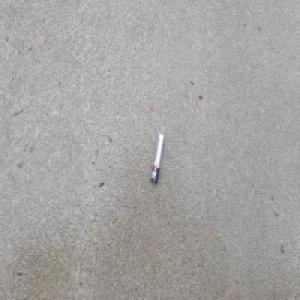Battery: (150, 132, 165, 185)
